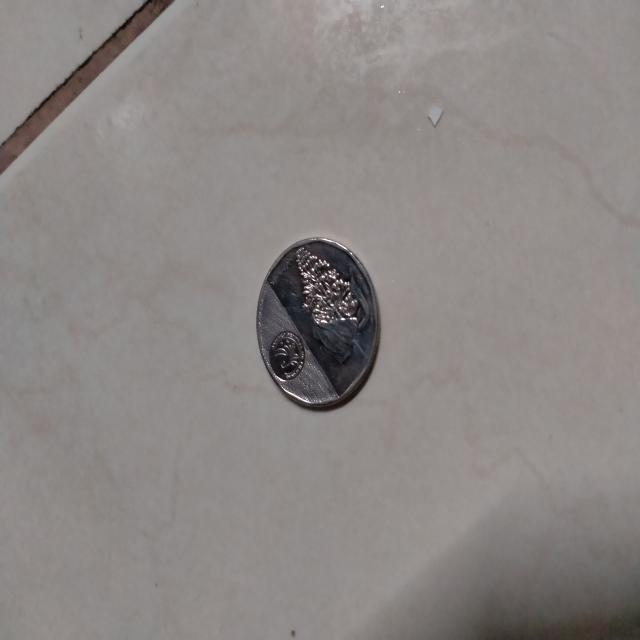10_New_Back: (263, 244, 368, 384)
